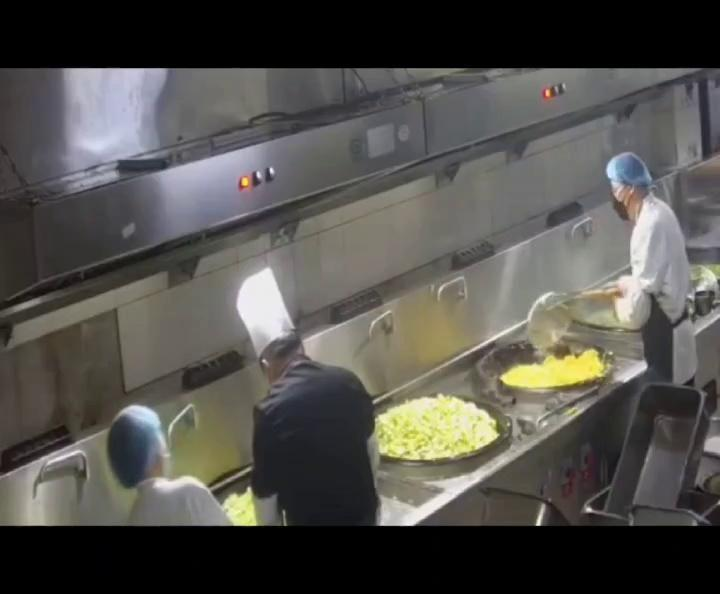gloves: (103, 406, 178, 498), (605, 152, 657, 186)
mask: (612, 196, 630, 222)
